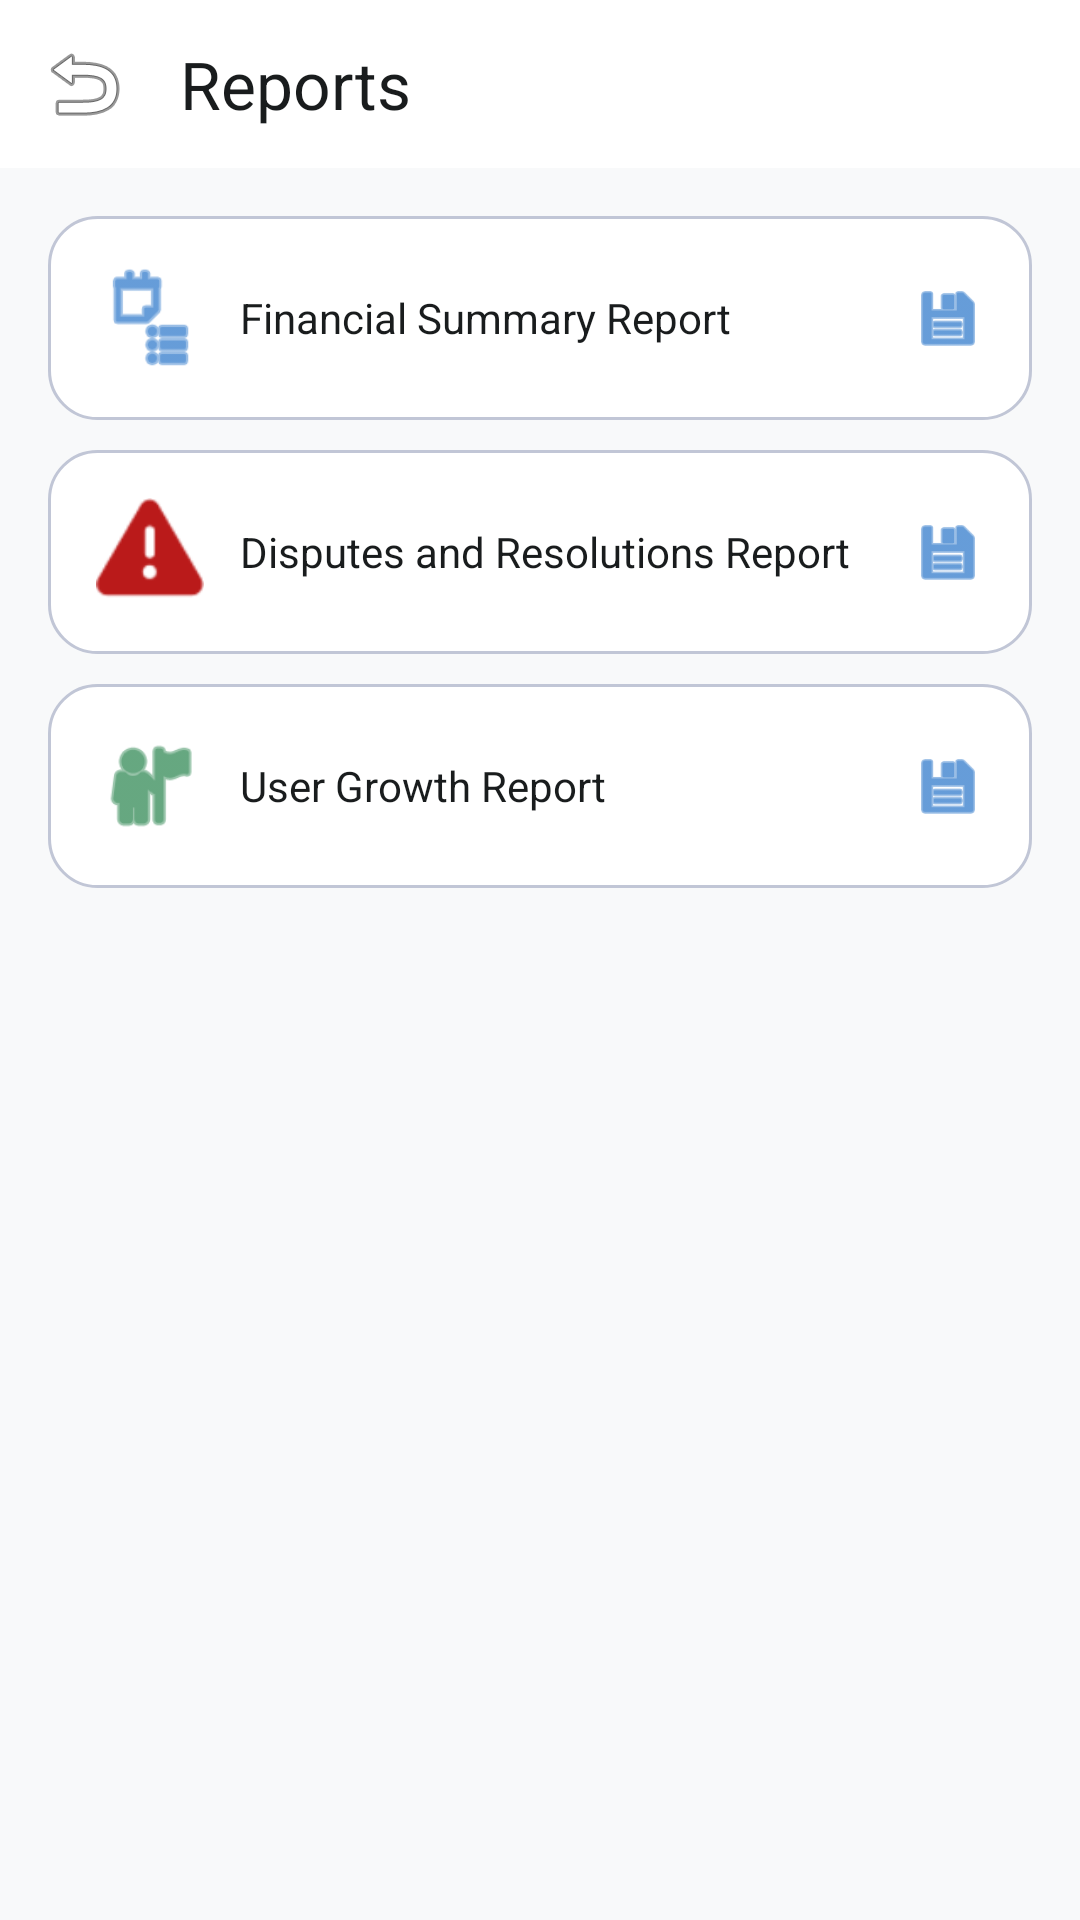

Where icons sit on this 1080px x 1920px app screen, as (x1, y1, x2, y2):
agenda: (113, 269, 189, 366)
alert: (96, 498, 204, 597)
myplaces: (110, 746, 192, 826)
save: (921, 291, 975, 346), (921, 525, 975, 580), (921, 759, 975, 814)
